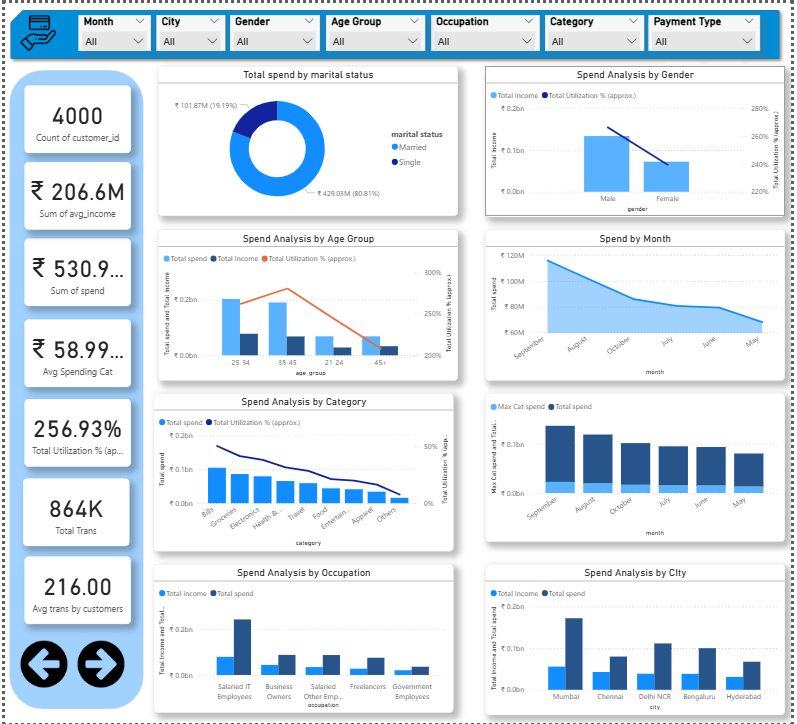

Layout of this report page (visuals, bound fields, positions):
{"tool":"powerbi","page":{"name":"Spending Analysis","canvas":[1310,1200],"ordinal":1},"visuals":[{"type":"shape","box":[0,3.1,1300,100],"z":0,"group":"g1"},{"type":"lineClusteredColumnComboChart","title":"Spend Analysis by Gender","fields":{"Category":["dim_customers.gender"],"Y":["Calculated Measures.Total Income"],"Y2":["Calculated Measures.Total Utilization %"]},"box":[800,104,500,252],"z":0},{"type":"card","fields":{"Values":["Count(dim_customers.customer_id)"]},"box":[32.6,137.8,177.7,112.5],"z":0,"group":"g3"},{"type":"slicer","title":"Month","fields":{"Values":["fact_spends.month"]},"box":[122.3,20.6,120.7,60],"z":1000,"group":"g1"},{"type":"lineClusteredColumnComboChart","title":"Spend Analysis by Category","fields":{"Category":["fact_spends.category"],"Y":["Calculated Measures.Total spend"],"Y2":["Calculated Measures.Total Utilization % (approx.)"]},"box":[248,650,500,264],"z":1000},{"type":"card","fields":{"Values":["fact_spends.Total Trans"]},"box":[30.3,794,177.7,112.5],"z":1000,"group":"g3"},{"type":"slicer","fields":{"Values":["dim_customers.city"]},"box":[252.3,20.6,114.5,60],"z":2000,"group":"g1"},{"type":"card","fields":{"Values":["Sum(fact_spends.spend)"]},"box":[32.6,392.8,177.7,112.5],"z":2000,"group":"g3"},{"type":"clusteredColumnChart","title":"Spend Analysis by CIty","fields":{"Category":["dim_customers.city"],"Y":["Calculated Measures.Total Income","Calculated Measures.Total spend"]},"box":[800,934,500,252],"z":2000},{"type":"slicer","fields":{"Values":["dim_customers.gender"]},"box":[374.5,20.6,150.1,60],"z":3000,"group":"g1"},{"type":"card","fields":{"Values":["Calculated Measures.Avg trans by customers"]},"box":[32.6,922.2,177.7,112.5],"z":3000,"group":"g3"},{"type":"clusteredColumnChart","title":"Spend Analysis by Occupation","fields":{"Y":["Calculated Measures.Total Income","Calculated Measures.Total spend"],"Category":["dim_customers.occupation"]},"box":[248.3,933.8,500,248.3],"z":3000},{"type":"slicer","fields":{"Values":["dim_customers.occupation"]},"box":[708.8,20.6,181.1,60],"z":4000,"group":"g1"},{"type":"card","fields":{"Values":["Sum(dim_customers.avg_income)"]},"box":[32.6,265.9,177.7,112.5],"z":4000,"group":"g3"},{"type":"areaChart","title":"Spend by Month","fields":{"Category":["fact_spends.month"],"Y":["Calculated Measures.Total spend"]},"box":[800,378,500,252],"z":4000},{"type":"image","box":[20.9,13.1,69.6,75],"z":5000,"group":"g1"},{"type":"card","fields":{"Values":["Calculated Measures.Avg Spending Cat"]},"box":[32.6,526.6,177.7,112.5],"z":5000,"group":"g3"},{"type":"columnChart","fields":{"Category":["fact_spends.month"],"Y":["Calculated Measures.Max Cat spend","Calculated Measures.Total spend"]},"box":[800,650,500,248],"z":5000},{"type":"donutChart","fields":{"Category":["dim_customers.marital status"],"Y":["Calculated Measures.Total spend"]},"box":[254,104,500,250],"z":6000},{"type":"card","fields":{"Values":["Calculated Measures.Total Utilization % (approx.)"]},"box":[32.6,660.3,177.7,112.5],"z":6000,"group":"g3"},{"type":"lineClusteredColumnComboChart","title":"Spend Analysis by Age Group","fields":{"Category":["dim_customers.age_group"],"Y":["Calculated Measures.Total spend","Calculated Measures.Total Income"],"Y2":["Calculated Measures.Total Utilization % (approx.)"]},"box":[254,378,500,252],"z":7000},{"type":"group","id":"g1","title":"Group 2","box":[0,3.1,1300,100],"z":8000},{"type":"shape","box":[-4.1,105.4,248.3,1079.5],"z":8000,"group":"g2"},{"type":"group","id":"g2","title":"Group 3","box":[-4.1,105.4,248.3,1079.5],"z":9000},{"type":"group","id":"g3","title":"Group 1","box":[30.3,137.8,180,896.9],"z":9000,"group":"g2"},{"type":"image","box":[114.6,1058,89.4,88],"z":10000,"group":"g4"},{"type":"image","box":[20,1058,89.4,88],"z":11000,"group":"g4"},{"type":"group","id":"g4","title":"Group 4","box":[20,1058,184,88],"z":11001},{"type":"slicer","title":"Month","fields":{"Values":["dim_customers.age_group"]},"box":[533.9,20.6,165.6,60],"z":14000,"group":"g1"},{"type":"slicer","title":"Month","fields":{"Values":["fact_spends.category"]},"box":[899.2,20.6,165.6,60],"z":15000,"group":"g1"},{"type":"slicer","title":"Month","fields":{"Values":["fact_spends.payment_type"]},"box":[1072.5,20.6,185.7,60],"z":16000,"group":"g1"}]}

Visuals, with their boxes in screenshot pixels (x1, y1, x2, y2), scaled from the page's 1310x1200 canvas onto the 797x724 screenshot:
shape: box(0, 2, 791, 62)
"Spend Analysis by Gender" lineClusteredColumnComboChart: box(487, 63, 791, 215)
card - Count(dim_customers.customer_id): box(20, 83, 128, 151)
"Month" slicer: box(74, 12, 148, 49)
"Spend Analysis by Category" lineClusteredColumnComboChart: box(151, 392, 455, 551)
card - fact_spends.Total Trans: box(18, 479, 127, 547)
slicer - dim_customers.city: box(153, 12, 223, 49)
card - Sum(fact_spends.spend): box(20, 237, 128, 305)
"Spend Analysis by CIty" clusteredColumnChart: box(487, 564, 791, 716)
slicer - dim_customers.gender: box(228, 12, 319, 49)
card - Calculated Measures.Avg trans by customers: box(20, 556, 128, 624)
"Spend Analysis by Occupation" clusteredColumnChart: box(151, 563, 455, 713)
slicer - dim_customers.occupation: box(431, 12, 541, 49)
card - Sum(dim_customers.avg_income): box(20, 160, 128, 228)
"Spend by Month" areaChart: box(487, 228, 791, 380)
image: box(13, 8, 55, 53)
card - Calculated Measures.Avg Spending Cat: box(20, 318, 128, 386)
columnChart - fact_spends.month x Calculated Measures.Max Cat spend: box(487, 392, 791, 542)
donutChart - dim_customers.marital status x Calculated Measures.Total spend: box(155, 63, 459, 214)
card - Calculated Measures.Total Utilization % (approx.): box(20, 398, 128, 466)
"Spend Analysis by Age Group" lineClusteredColumnComboChart: box(155, 228, 459, 380)
"Group 2" group: box(0, 2, 791, 62)
shape: box(0, 64, 149, 715)
"Group 3" group: box(0, 64, 149, 715)
"Group 1" group: box(18, 83, 128, 624)
image: box(70, 638, 124, 691)
image: box(12, 638, 67, 691)
"Group 4" group: box(12, 638, 124, 691)
"Month" slicer: box(325, 12, 426, 49)
"Month" slicer: box(547, 12, 648, 49)
"Month" slicer: box(653, 12, 765, 49)
